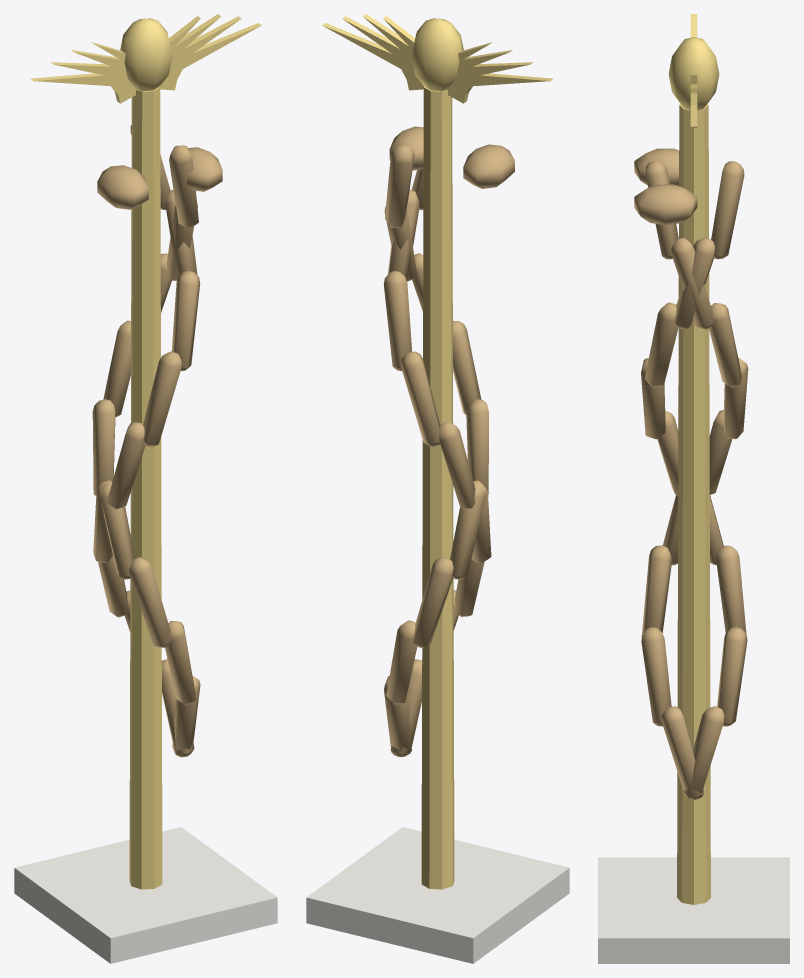
Rendered from mythic-underworld-and-olympus-caduceus-1826a32b__21426.glb.
The picture shows the model from 3 angles, left to right: view 1: azimuth 30°, elevation 25°; view 2: azimuth 150°, elevation 25°; view 3: azimuth 270°, elevation 25°; orthographic projection.
Parts seen in each view (by area): view 1: caduceus; view 2: caduceus; view 3: caduceus.
Part boxes in pixels (x1,y1,x2,y2): caduceus: [14, 14, 277, 963]; caduceus: [306, 14, 569, 963]; caduceus: [598, 14, 789, 963].
Size of the model in its own units: 0.4654 by 1.73 by 0.34.
